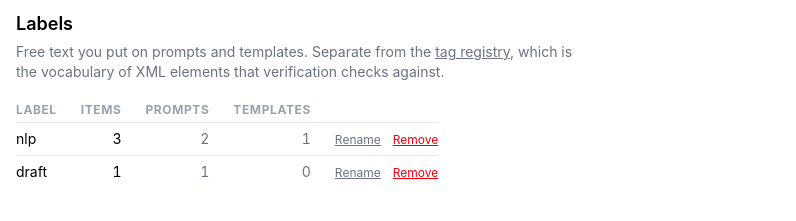
it: Labels › warns before a rename that would merge two labels
Click the button with aria-label "Rename nlp".
click(358, 140)  # box left=335, top=132, right=381, bottom=148
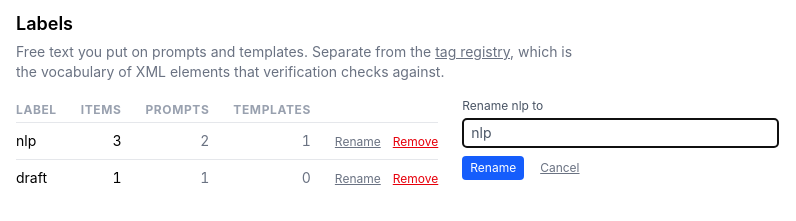
Replace the text in the field with "draft" at (621,133), box left=462, top=118, right=779, bottom=148
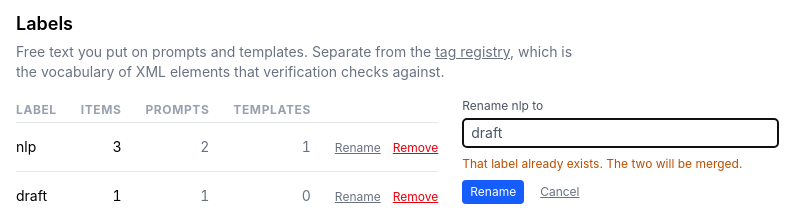
Expected: the text "That label already exists. The two will be merged." is shown, left=462, top=156, right=779, bottom=172
